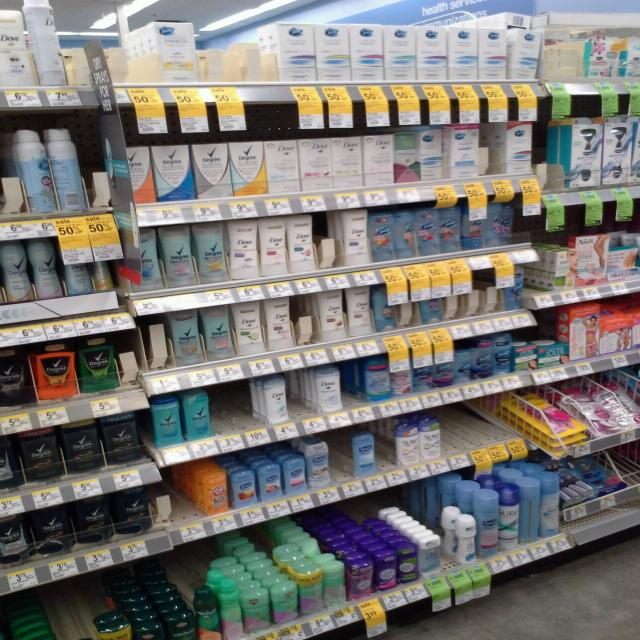void: (444, 406, 514, 441), (212, 388, 251, 430), (155, 479, 191, 524)
